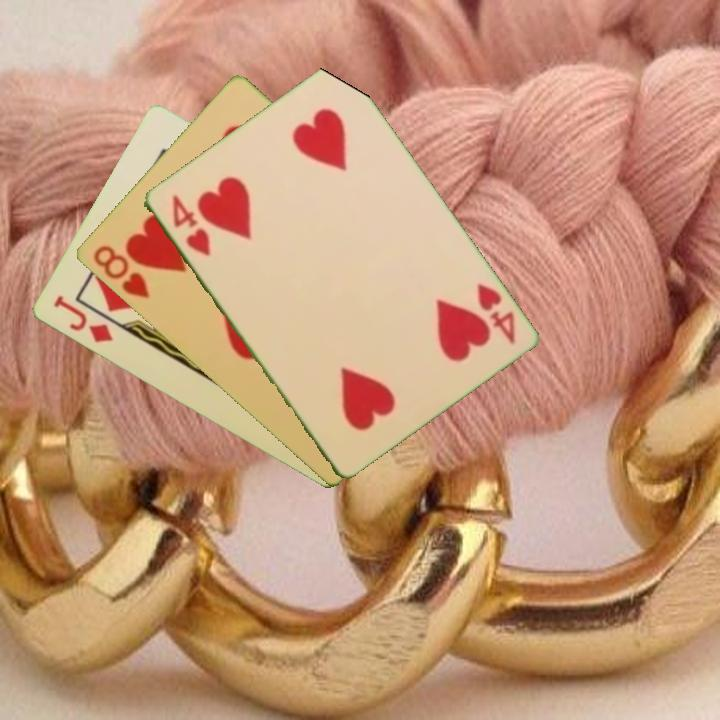4h: (168, 190, 213, 260), (472, 279, 518, 347)
8h: (89, 242, 152, 302)
Jd: (49, 292, 115, 346)
